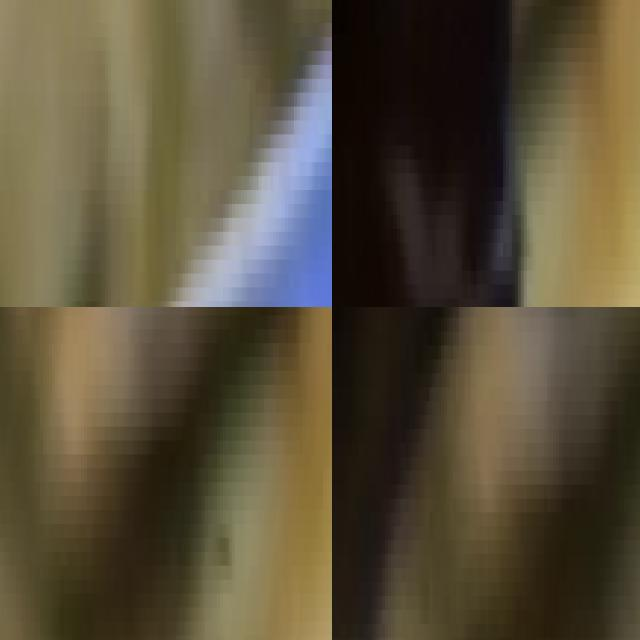fish: (0, 0, 332, 307), (332, 0, 535, 307)
